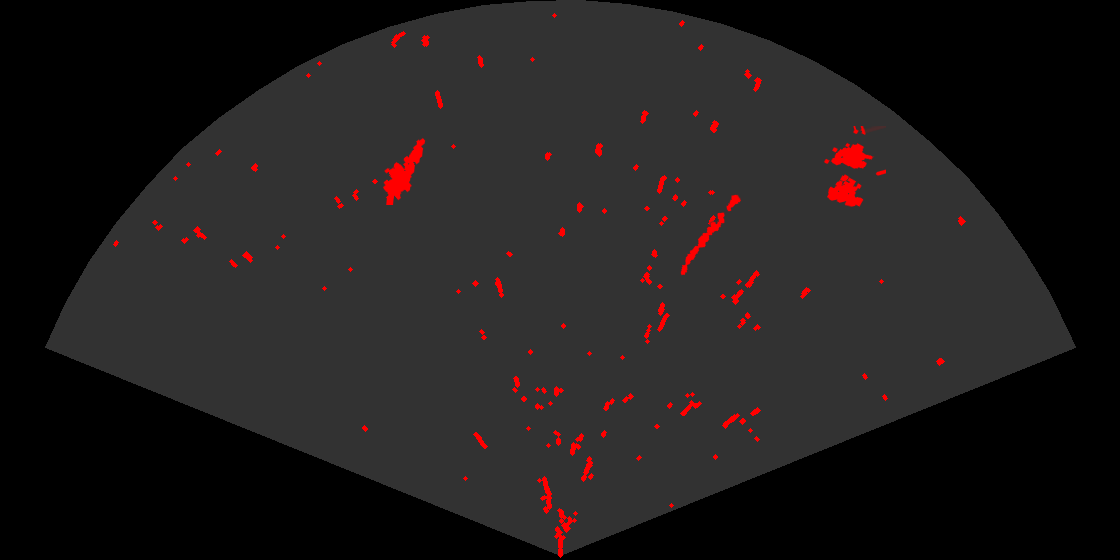cage: (822, 126, 886, 209)
chain: (679, 193, 743, 277)
frogman: (382, 136, 427, 205)
